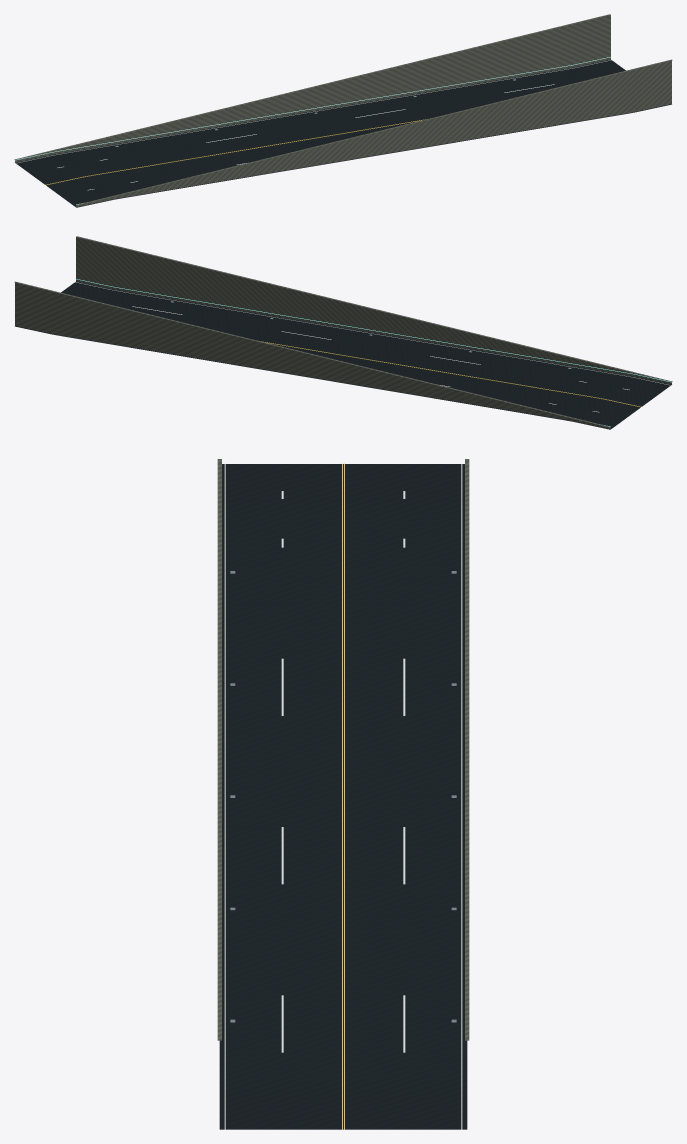
Rendered from underpass_ramp_4lane_80m_LOD0.glb.
The picture shows the model from 3 angles, top to bottom: view 1: azimuth 30°, elevation 25°; view 2: azimuth 150°, elevation 25°; view 3: azimuth 270°, elevation 25°; orthographic projection. The views are drawn at different scales.
Parts seen in each view (by area): view 1: underpass_ramp_4lane_80m__retaining_walls, underpass_ramp_4lane_80m__channel; view 2: underpass_ramp_4lane_80m__retaining_walls, underpass_ramp_4lane_80m__channel; view 3: underpass_ramp_4lane_80m__channel, underpass_ramp_4lane_80m__retaining_walls.
Part boxes in pixels (box(x1,y1,x2,y2)): underpass_ramp_4lane_80m__retaining_walls: box(14, 14, 672, 207); underpass_ramp_4lane_80m__channel: box(15, 59, 671, 207); underpass_ramp_4lane_80m__retaining_walls: box(14, 236, 672, 429); underpass_ramp_4lane_80m__channel: box(15, 281, 671, 429); underpass_ramp_4lane_80m__channel: box(219, 463, 467, 1129); underpass_ramp_4lane_80m__retaining_walls: box(217, 459, 469, 1040).
Bounding box in the file's own units: 80 × 5.76 × 14.64.
Materials: 7 (3 with a texture image).
